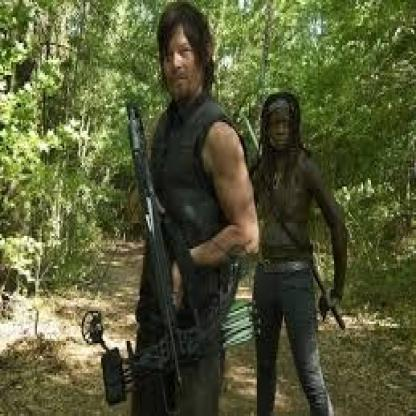Gun: (117, 103, 183, 388)
